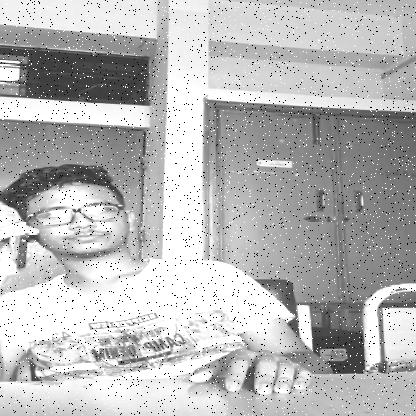Normal: (0, 162, 143, 264)
